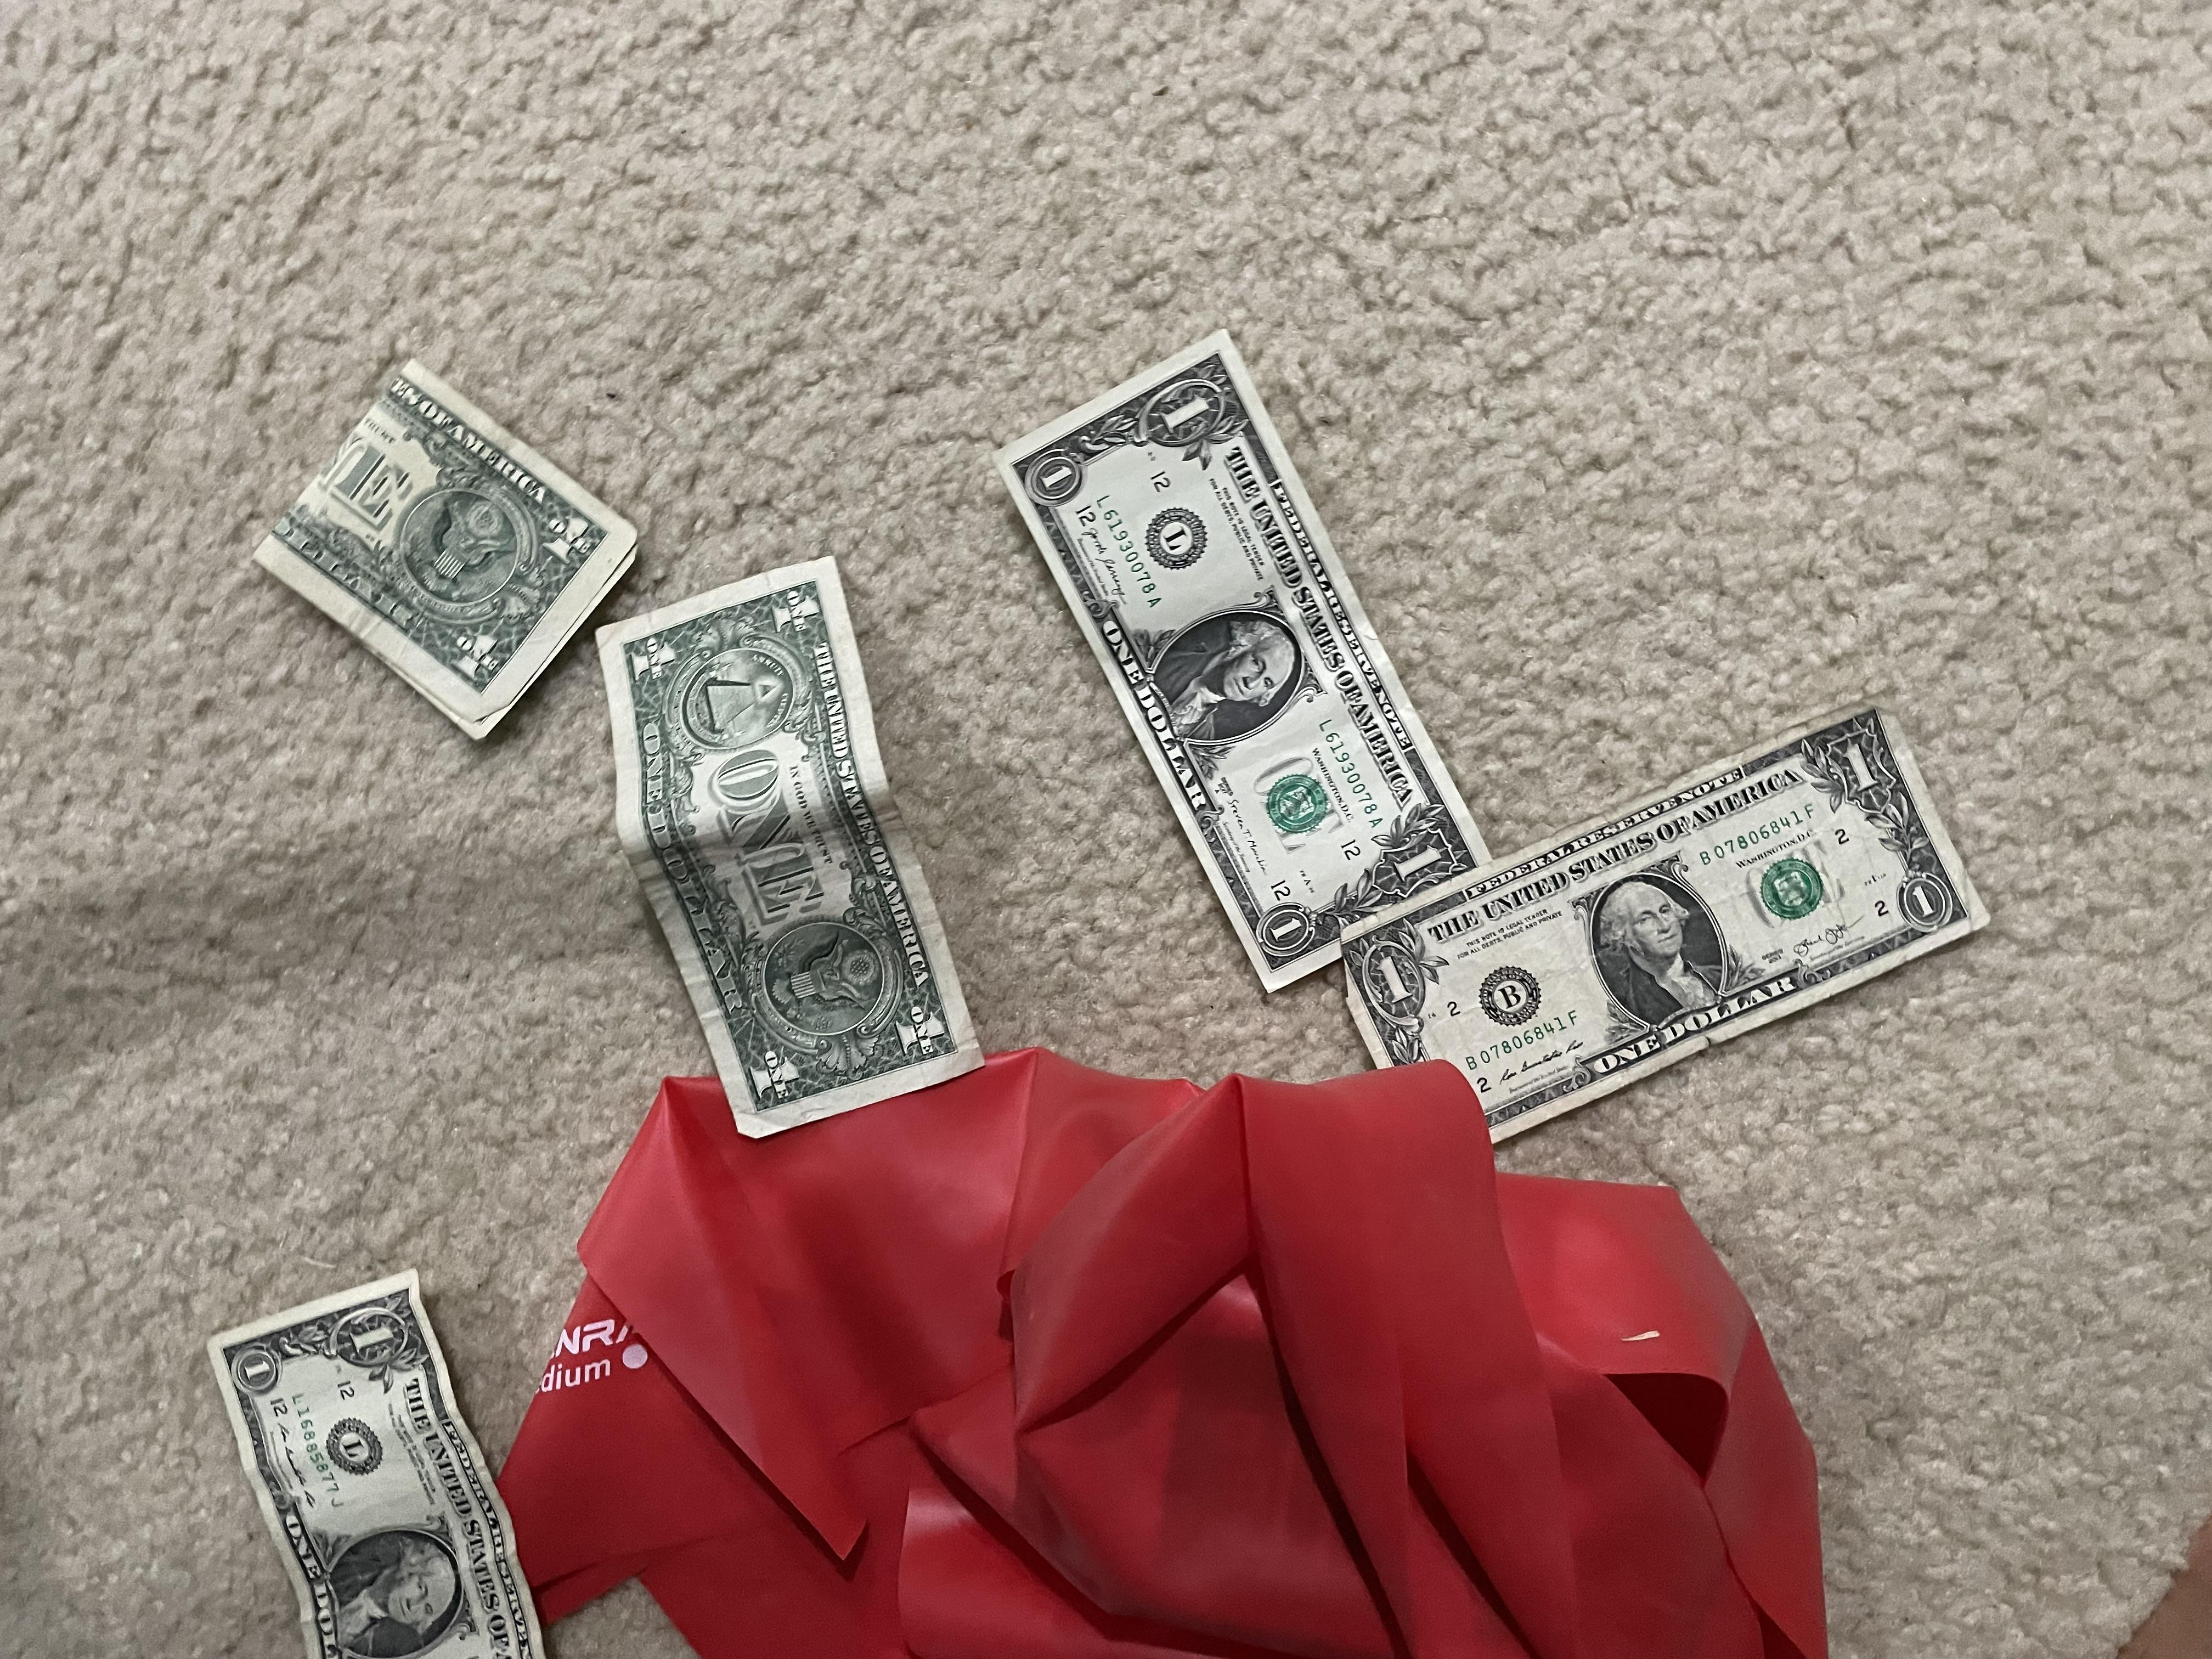OneBill: (991, 314, 1507, 1006), (1315, 697, 1994, 1178), (592, 545, 986, 1138), (247, 343, 644, 737), (197, 1251, 543, 1657)
